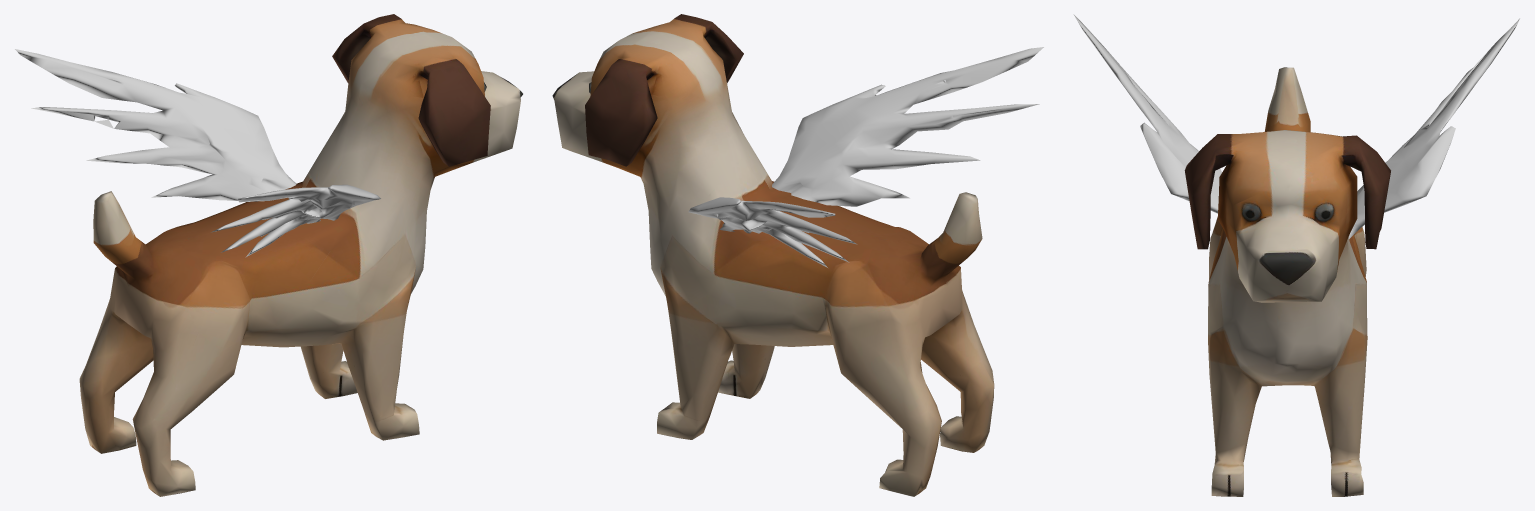
Rendered from pes22.fbx.
3 views of the same model, side by side, from view 1: azimuth 30°, elevation 25°; view 2: azimuth 150°, elevation 25°; view 3: azimuth 270°, elevation 25° (orthographic). The views are drawn at different scales.
Visible parts, largest first — view 1: tripo_node_331e3f95, tripo_node_f3775fe6; view 2: tripo_node_331e3f95, tripo_node_f3775fe6; view 3: tripo_node_331e3f95, tripo_node_f3775fe6.
Part boxes in pixels (x1=…): tripo_node_331e3f95: x1=79, y1=14, x2=522, y2=496; tripo_node_f3775fe6: x1=15, y1=49, x2=380, y2=257; tripo_node_331e3f95: x1=552, y1=14, x2=994, y2=496; tripo_node_f3775fe6: x1=688, y1=47, x2=1043, y2=267; tripo_node_331e3f95: x1=1184, y1=67, x2=1390, y2=496; tripo_node_f3775fe6: x1=1073, y1=14, x2=1519, y2=239.
Bounding box in the file's own units: 99.82 × 82.38 × 89.61.
